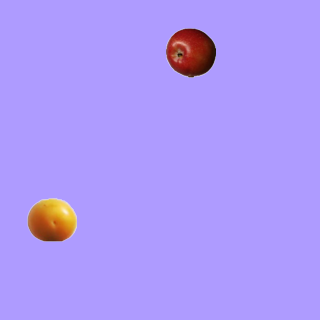Apple Braeburn: (165, 27, 215, 77)
Cherry Wax Yellow: (26, 194, 76, 244)
